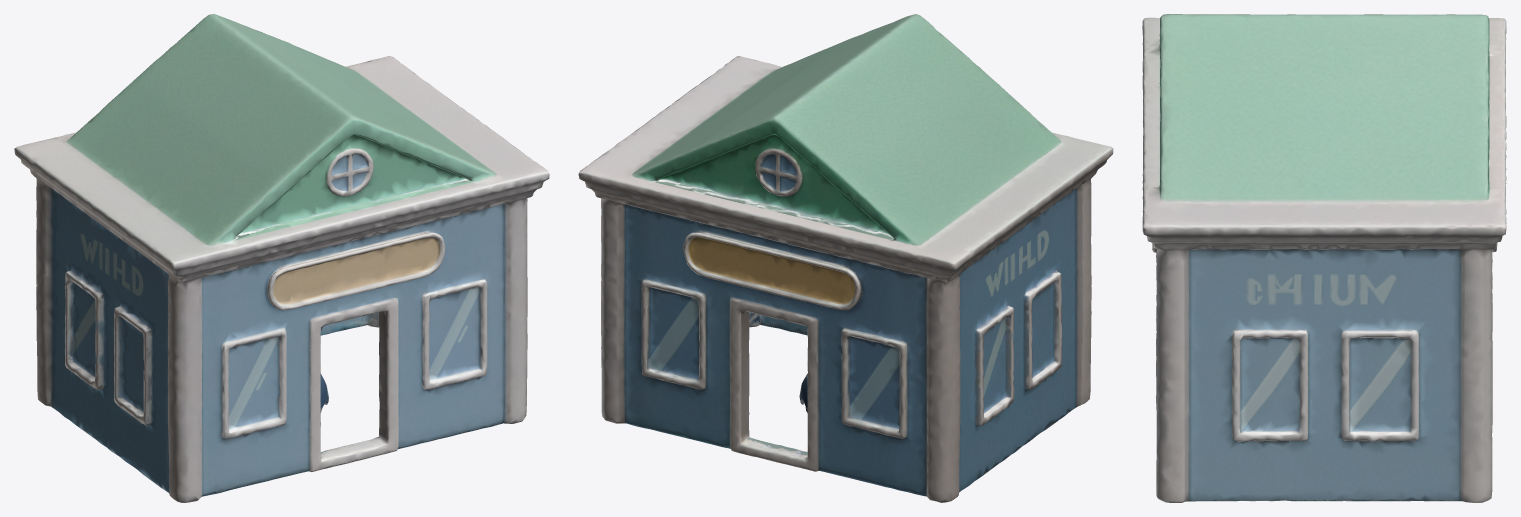
File: P_ShopShellMedium_h1000.fbx
3 renders of one model, left to right at view 1: azimuth 30°, elevation 25°; view 2: azimuth 150°, elevation 25°; view 3: azimuth 270°, elevation 25°, orthographic. The views are drawn at different scales.
Parts seen in each view (by area): view 1: texture_mapping; view 2: texture_mapping; view 3: texture_mapping.
Boxes of the visible parts, x1,y1,x2,y2 form: texture_mapping: (14,14,549,502); texture_mapping: (578,14,1113,502); texture_mapping: (1142,14,1506,502).
Size of the model in its own units: 1 by 0.7354 by 0.8761.
Materials: 1 (1 with a texture image).
